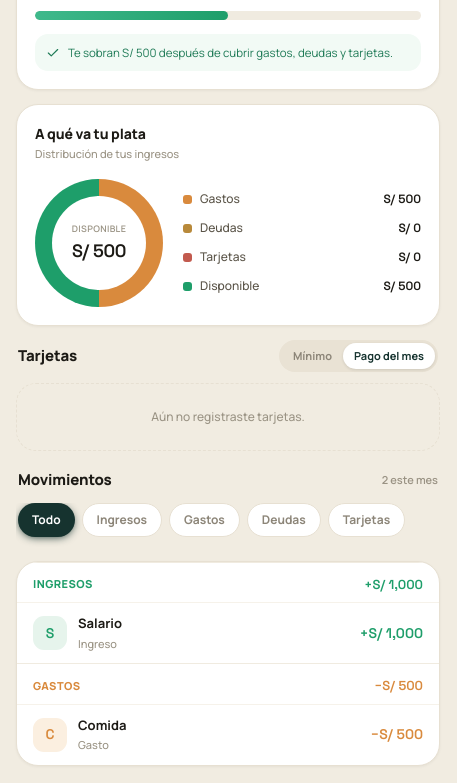
Test: should DashboardView › should filter movements when a filter chip is clicked
(page scrolled)
Expected: the number of elements with test id "description-item" is 2, [17, 602, 439, 663]; [17, 704, 439, 765]
What coordinates should you click on to do the following:
click the button "Gastos"
I would click on:
 (204, 520)
Its box is [169, 503, 240, 537].
(page scrolled)
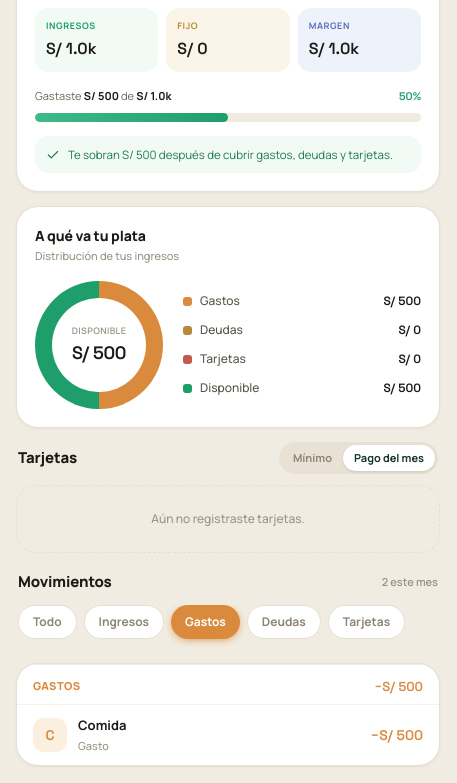
Expected: the element with test id "description-item" shows "Comida", [78, 716, 126, 734]
Expected: the number of elements with test id "description-item" is 1, [17, 704, 439, 765]
